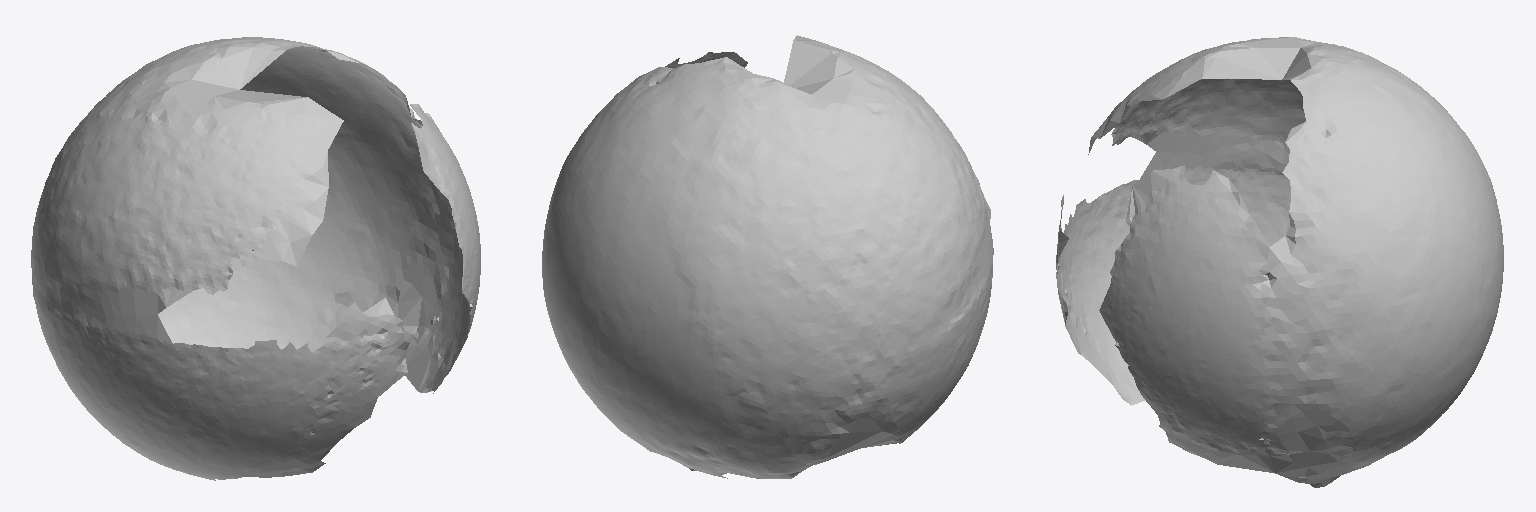
The model's file is Gridtest_0_0_2.000001.obj.
The picture shows the model from 3 angles: view 1: azimuth 30°, elevation 25°; view 2: azimuth 150°, elevation 25°; view 3: azimuth 270°, elevation 25°; orthographic projection.
Bounding box in the file's own units: 298 × 285 × 297.